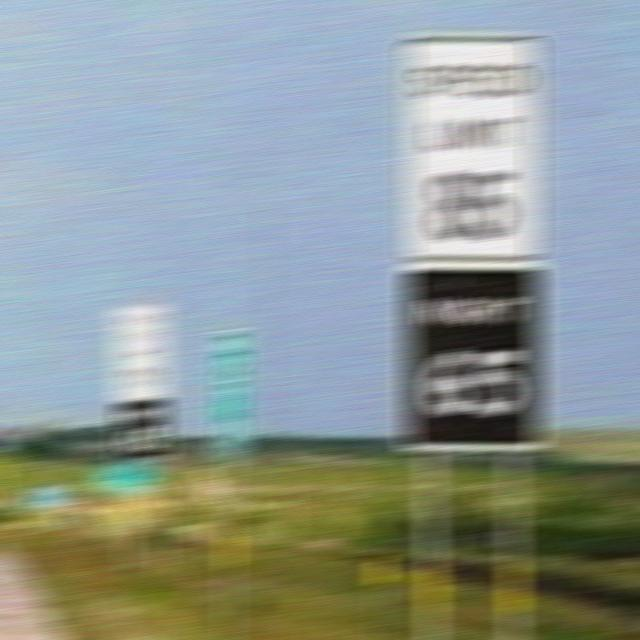speedLimit85: (395, 22, 543, 270)
